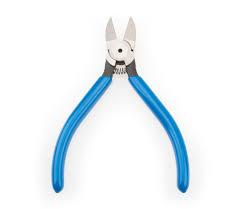pliers: (50, 16, 189, 192)
